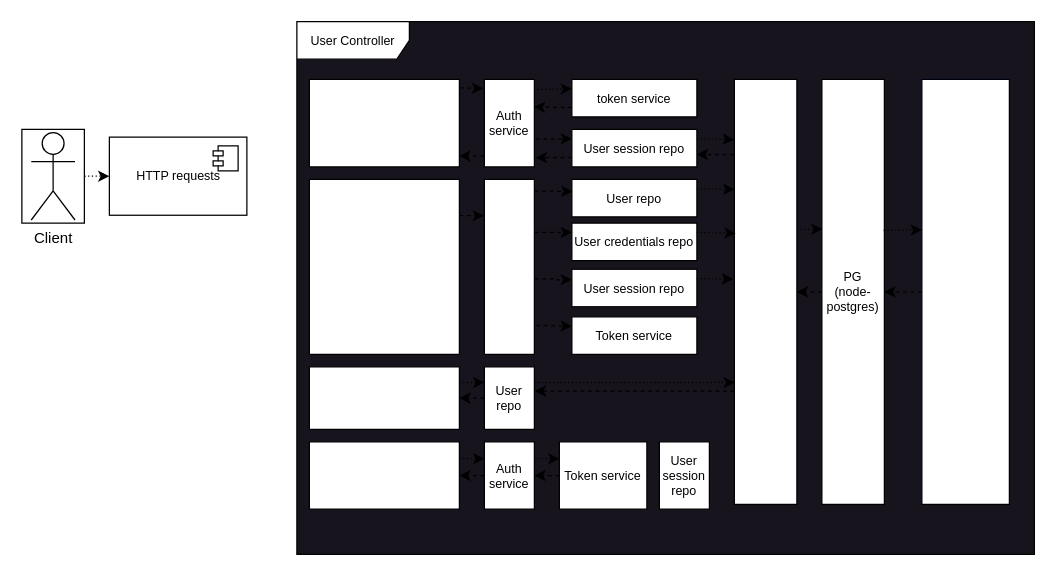
The diagram is 1056 pixels wide and 578 high, and some of its shapes have lost their labels. The shapes that lost their labels are listed below. From the top down, each one's box as (x1, y1, x2, y2) in pixels, then its label:
(308, 78, 459, 167): REST API Auth management
(308, 178, 459, 354): REST API Create
(483, 178, 534, 354): User create service
(733, 78, 797, 504): Main repo
(921, 78, 1009, 504): PostgreSQL
(308, 366, 459, 429): REST API Read Update Delete
(308, 441, 459, 509): REST API Refresh Tokens
